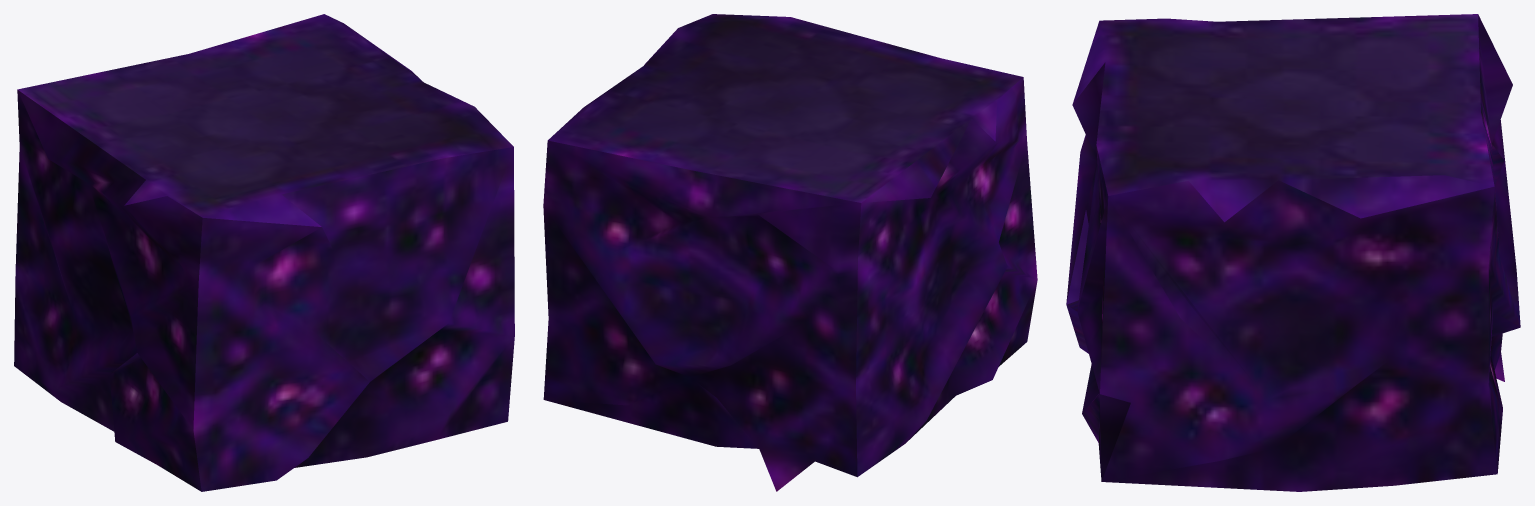
The model's file is b_abimes_mur_2_lo.glb.
3 renders of one model, left to right at view 1: azimuth 30°, elevation 25°; view 2: azimuth 150°, elevation 25°; view 3: azimuth 270°, elevation 25°, orthographic. The views are drawn at different scales.
Parts seen in each view (by area): view 1: geometry_0; view 2: geometry_0; view 3: geometry_0.
Part boxes in pixels (box(x1,y1,x2,y2)): geometry_0: box(14, 14, 514, 491); geometry_0: box(543, 14, 1037, 491); geometry_0: box(1066, 14, 1520, 491).
Bounding box in the file's own units: 1 × 0.8057 × 1.
Materials: 1 (1 with a texture image).
